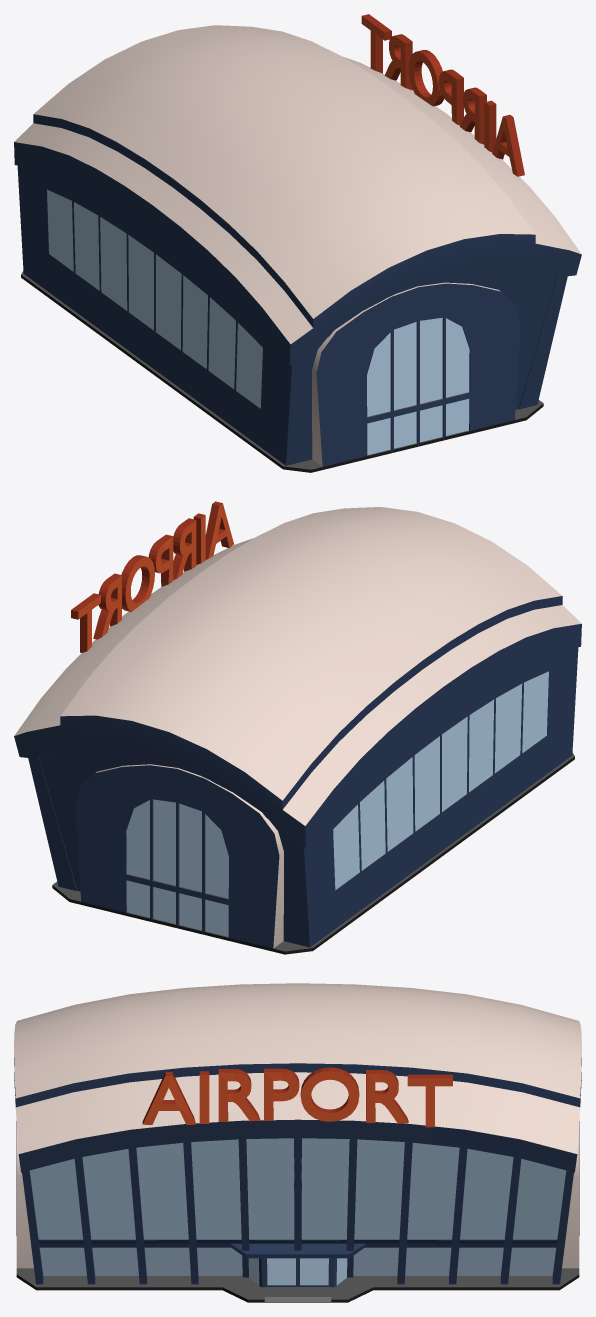
Rendered from 07_Modulo1_AIRPORT_0.obj.
The picture shows the model from 3 angles, top to bottom: view 1: azimuth 30°, elevation 25°; view 2: azimuth 150°, elevation 25°; view 3: azimuth 270°, elevation 25°; orthographic projection.
Visible parts, largest first — view 1: 07.Modulo1_AIRPORT_0; view 2: 07.Modulo1_AIRPORT_0; view 3: 07.Modulo1_AIRPORT_0.
Boxes of the visible parts, box(x1,y1,x2,y2) form: 07.Modulo1_AIRPORT_0: box(14, 14, 581, 472); 07.Modulo1_AIRPORT_0: box(14, 501, 581, 954); 07.Modulo1_AIRPORT_0: box(14, 983, 581, 1302).
Bounding box in the file's own units: 42.2 × 32.42 × 70.62.
1 material, 1 textured.
